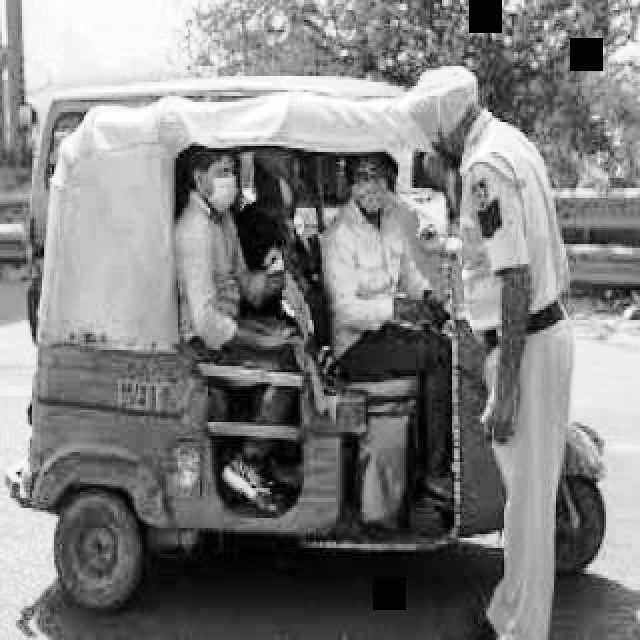Auto-Rickshaw: (26, 84, 596, 604)
